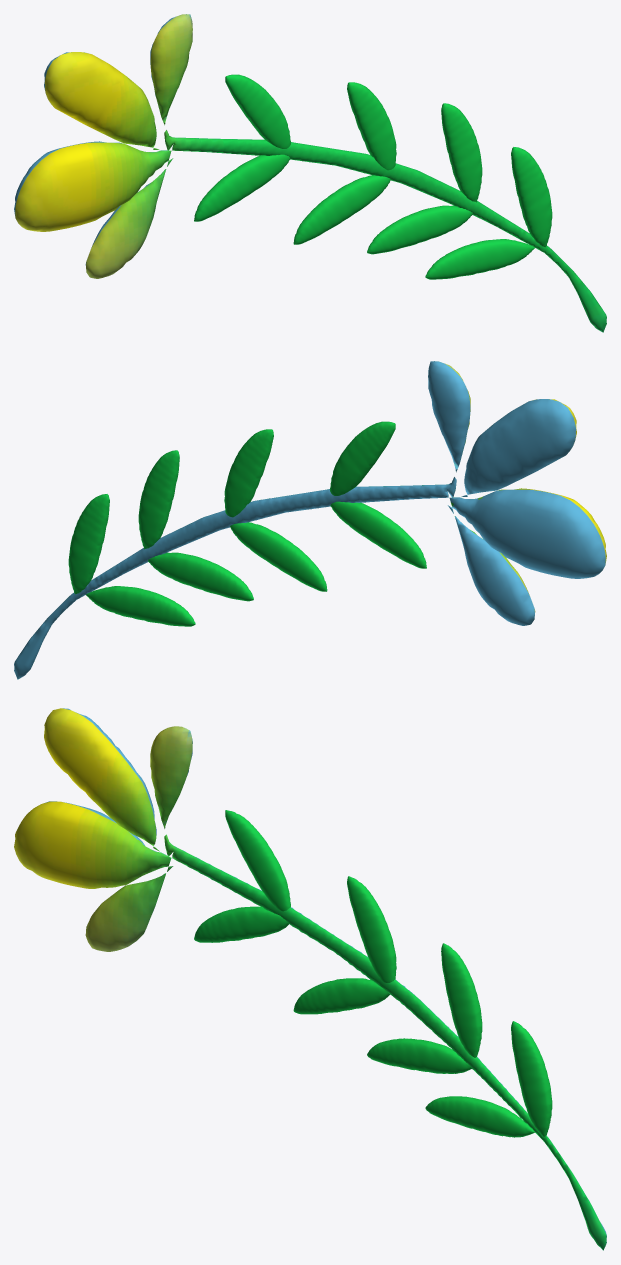
File: flower.fbx
3 renders of one model, top to bottom at view 1: azimuth 30°, elevation 25°; view 2: azimuth 150°, elevation 25°; view 3: azimuth 330°, elevation 25°, orthographic.
Parts seen in each view (by area): view 1: root (×9); view 2: root (×9); view 3: root (×9).
Part boxes in pixels (<box>): root (×9): <box>14,14,606,332</box>; root (×9): <box>14,361,606,679</box>; root (×9): <box>14,708,606,1250</box>.
Bounding box in the file's own units: 0.1044 × 0.0711 × 0.00635.
Materials: 2 (1 with a texture image).
